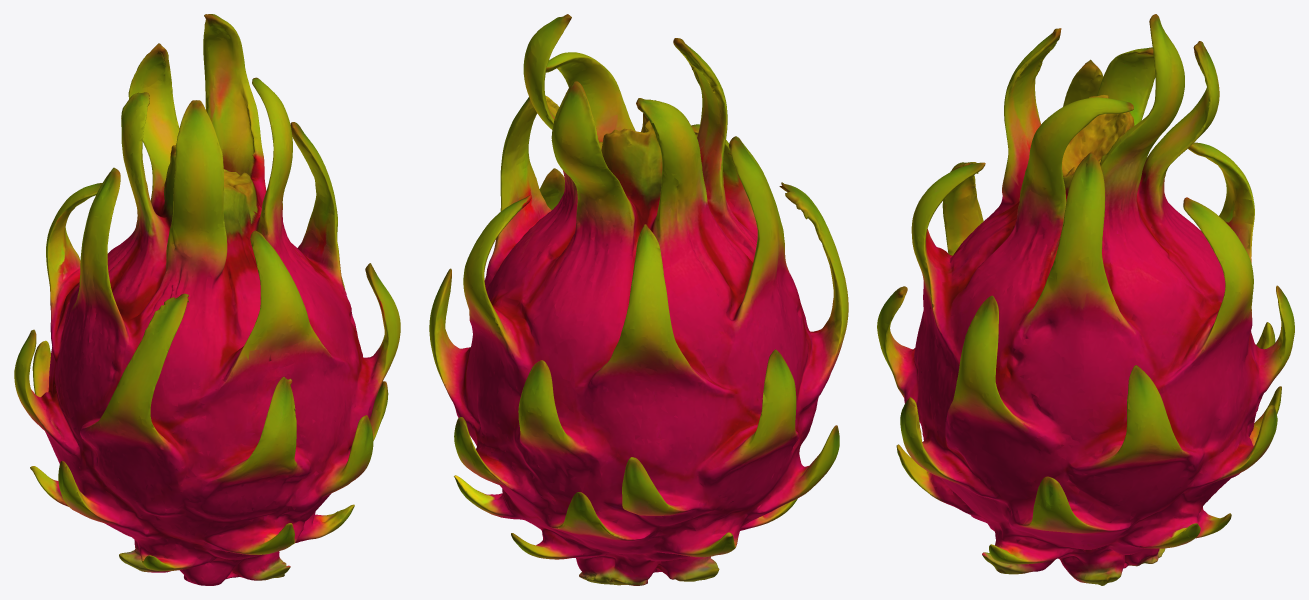
Rendered from dragonfruit_raw.glb.
3 views of the same model, side by side, from view 1: azimuth 30°, elevation 25°; view 2: azimuth 150°, elevation 25°; view 3: azimuth 270°, elevation 25° (orthographic). The views are drawn at different scales.
Parts seen in each view (by area): view 1: Dragonfruit; view 2: Dragonfruit; view 3: Dragonfruit.
Part boxes in pixels (x1,y1,x2,y2): Dragonfruit: (14, 14, 400, 585); Dragonfruit: (429, 14, 848, 585); Dragonfruit: (877, 14, 1294, 585).
Size of the model in its own units: 0.6698 by 1 by 0.6773.
Materials: 1 (1 with a texture image).
